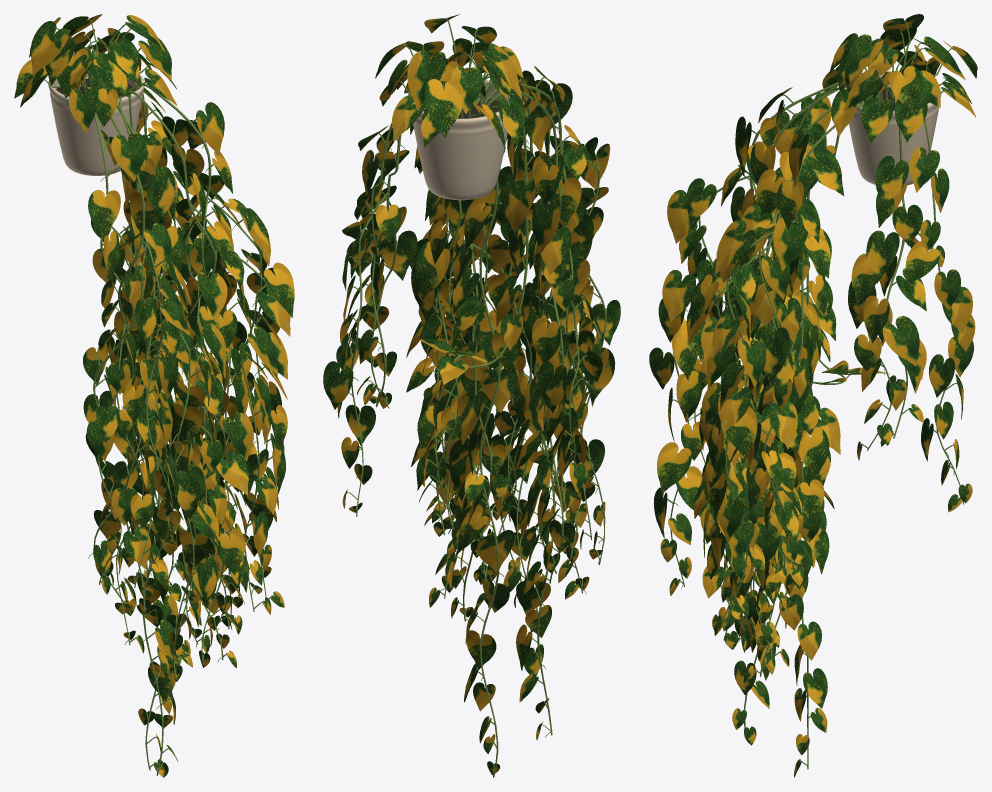
The model's file is pothos_trailing.fbx.
3 renders of one model, left to right at view 1: azimuth 30°, elevation 25°; view 2: azimuth 150°, elevation 25°; view 3: azimuth 270°, elevation 25°, orthographic. The views are drawn at different scales.
Parts seen in each view (by area): view 1: pothos_trailing; view 2: pothos_trailing; view 3: pothos_trailing.
Boxes of the visible parts, x1=… form: pothos_trailing: x1=14, y1=14, x2=294, y2=777; pothos_trailing: x1=323, y1=14, x2=620, y2=777; pothos_trailing: x1=649, y1=14, x2=977, y2=777.
Bounding box in the file's own units: 0.3613 × 0.5693 × 1.42.
Materials: 4 (1 with a texture image).
